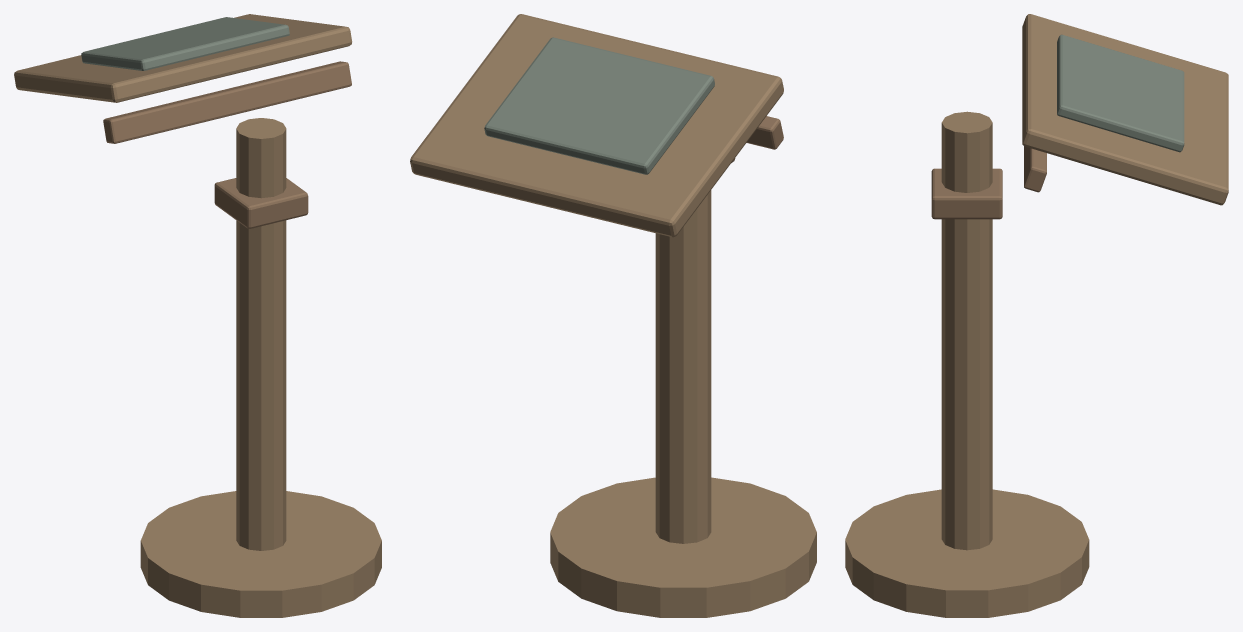
3 views of the same model, side by side, from view 1: azimuth 30°, elevation 25°; view 2: azimuth 150°, elevation 25°; view 3: azimuth 270°, elevation 25° (orthographic). The views are drawn at different scales.
Parts seen in each view (by area): view 1: podiumLectern; view 2: podiumLectern; view 3: podiumLectern.
Boxes of the visible parts, box(x1,y1,x2,y2) form: podiumLectern: box(14, 14, 381, 617); podiumLectern: box(410, 14, 816, 617); podiumLectern: box(845, 14, 1228, 617).
Size of the model in its own units: 0.55 by 1.08 by 0.7544.
